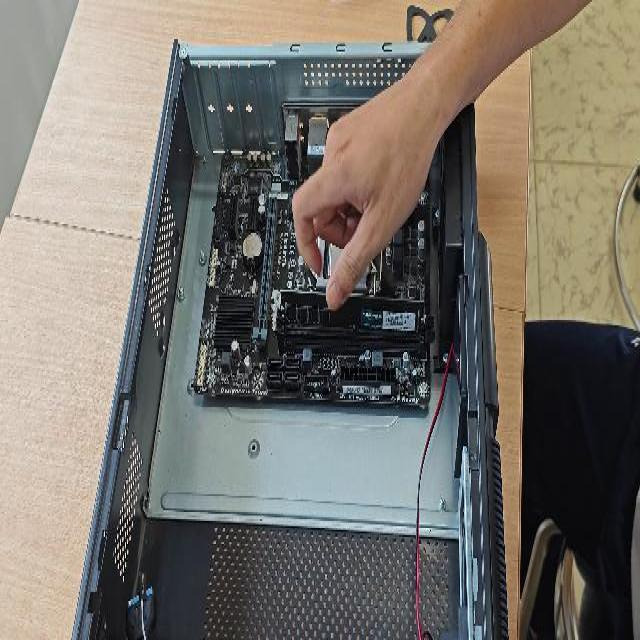Mainboard: (194, 141, 432, 403)
RAM: (277, 284, 424, 346)
